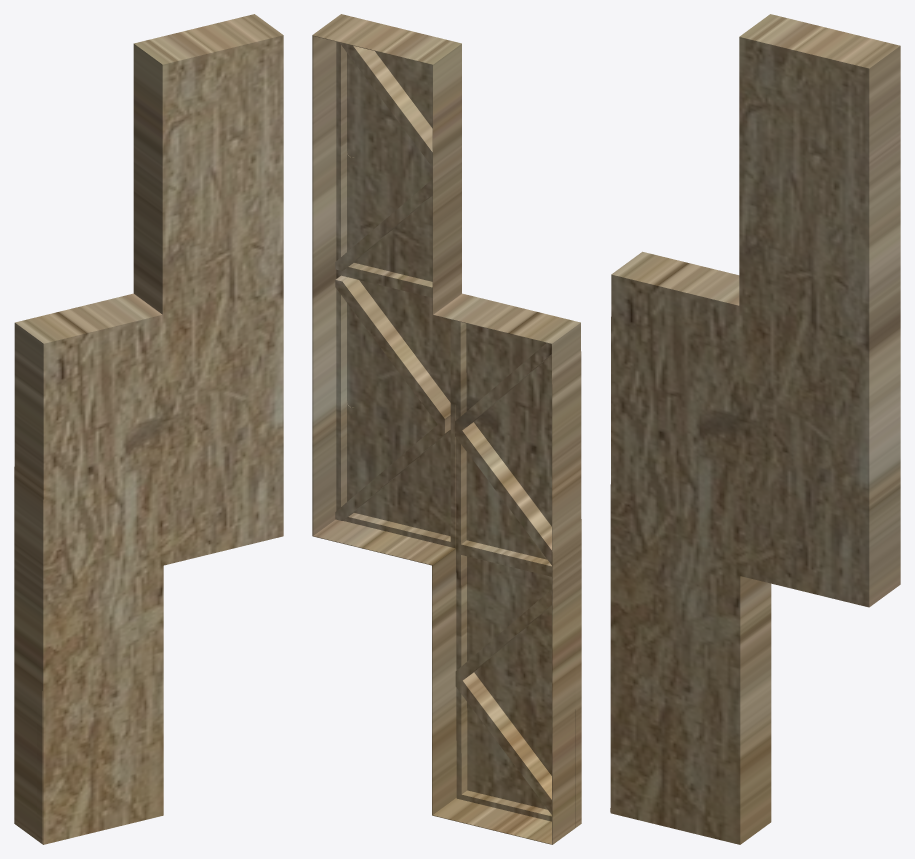
The model's file is KRail_plane_20cm.dae.
The picture shows the model from 3 angles, left to right: view 1: azimuth 30°, elevation 25°; view 2: azimuth 150°, elevation 25°; view 3: azimuth 330°, elevation 25°; orthographic projection. The views are drawn at different scales.
Parts seen in each view (by area): view 1: KRail plane 20cm; view 2: KRail plane 20cm; view 3: KRail plane 20cm.
Boxes of the visible parts, x1,y1,x2,y2 form: KRail plane 20cm: (14, 14, 283, 844); KRail plane 20cm: (312, 14, 581, 844); KRail plane 20cm: (610, 14, 900, 844).
Size of the model in its own units: 242 by 50.5 by 721.
Materials: 1 (1 with a texture image).
